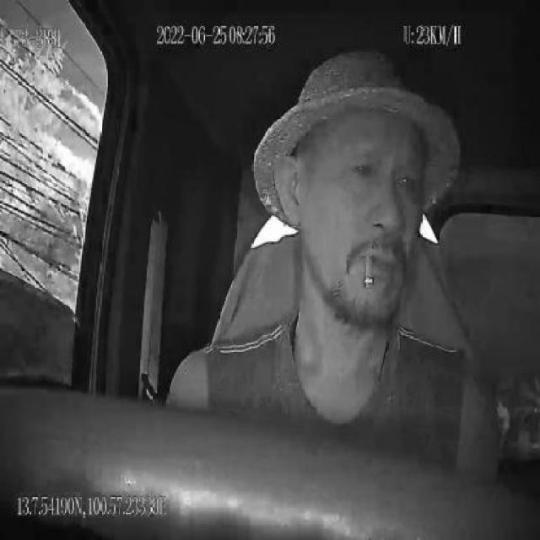smoking: (361, 247, 375, 288)
